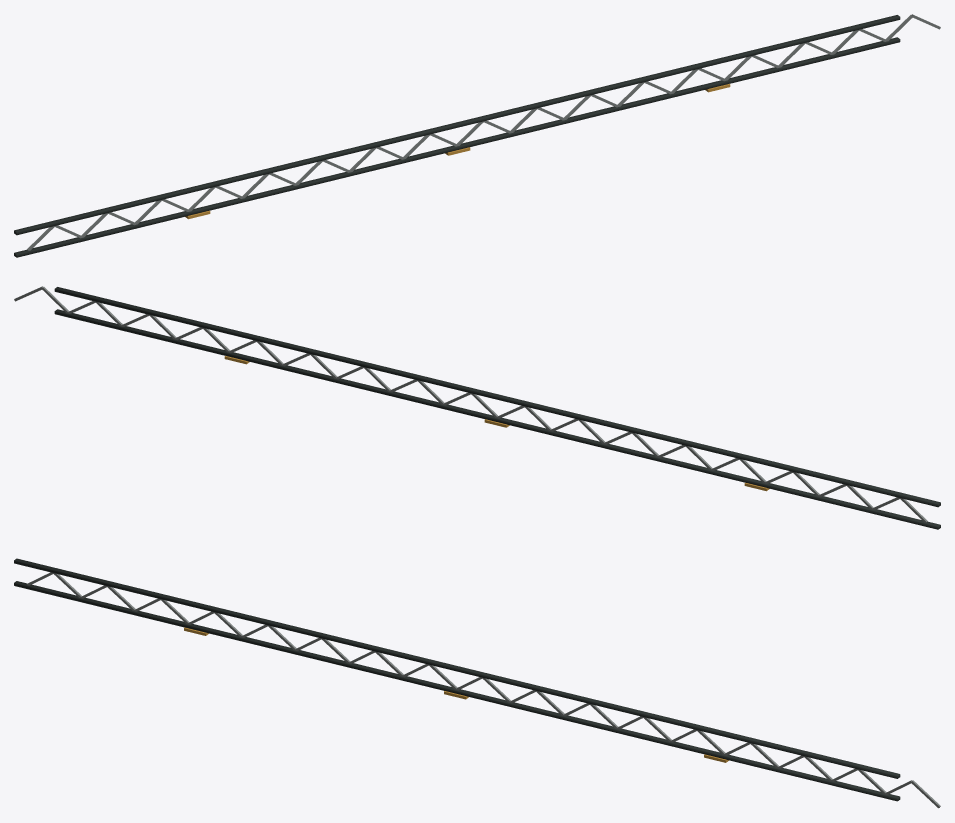
The model's file is warehouseTruss.glb.
3 renders of one model, top to bottom at view 1: azimuth 30°, elevation 25°; view 2: azimuth 150°, elevation 25°; view 3: azimuth 330°, elevation 25°, orthographic.
Visible parts, largest first — view 1: SM_warehouseTruss; view 2: SM_warehouseTruss; view 3: SM_warehouseTruss.
Part boxes in pixels (x1,y1,x2,y2): SM_warehouseTruss: [14, 14, 940, 257]; SM_warehouseTruss: [14, 286, 940, 529]; SM_warehouseTruss: [14, 558, 940, 808].
Size of the model in its own units: 28.47 by 0.8271 by 0.2398.
